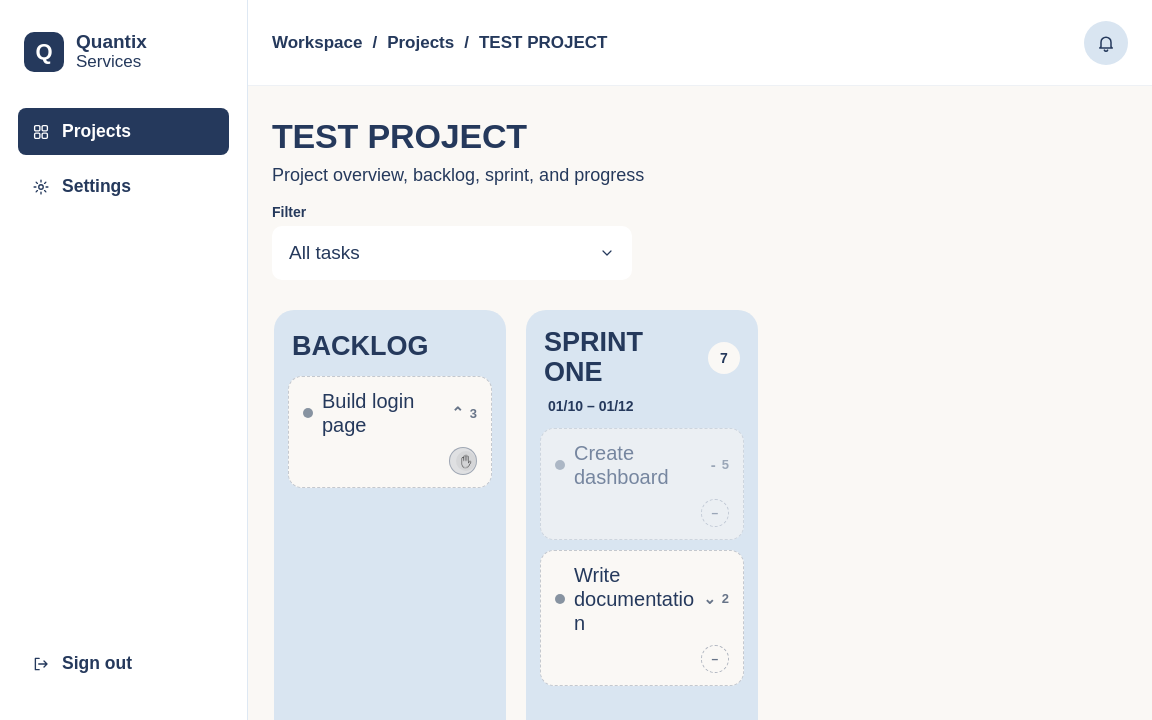
Volunteering for tasks › displays an error if volunteering fails
Click the button named "Volunteer for this task" at coordinates (463, 461), box [449,447,477,475]
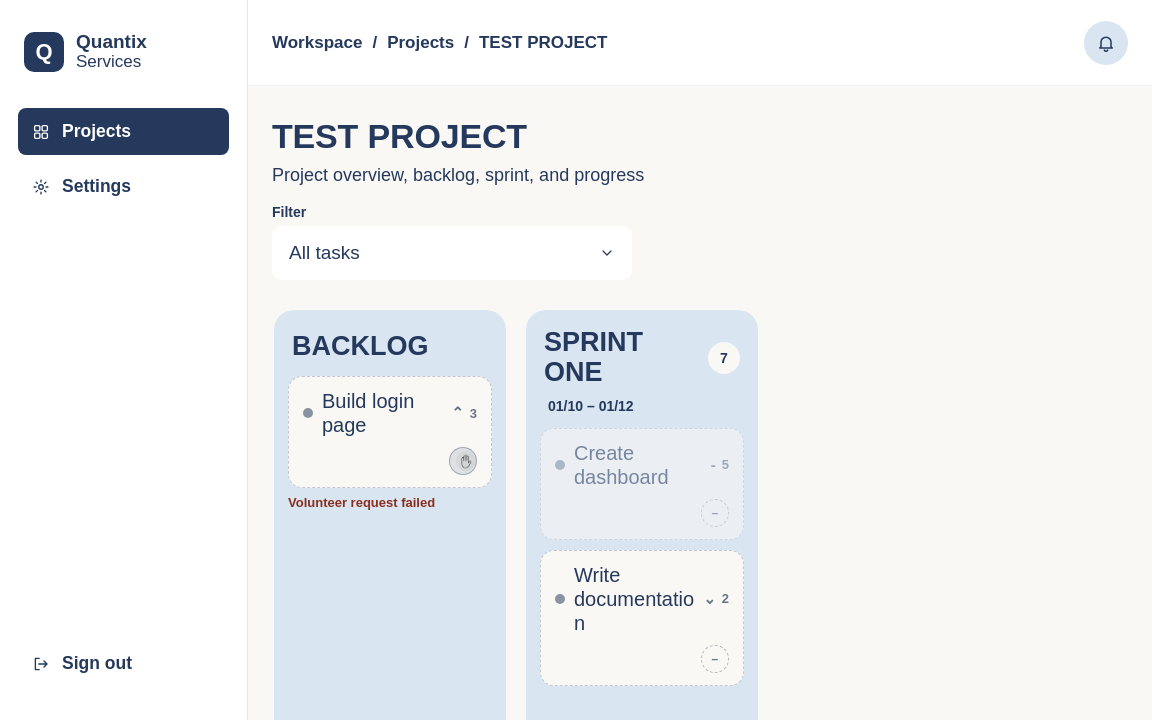
expect the message reads "Volunteer request failed": met, box [288,495,435,510]
